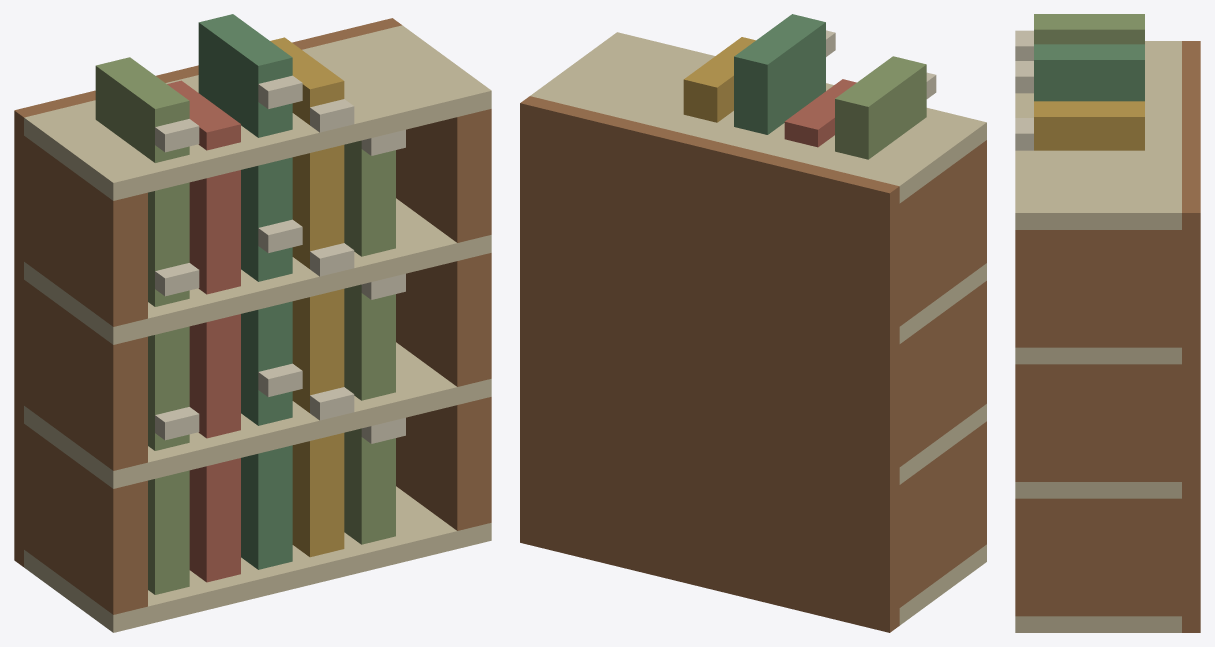
File: biotech-20.glb
The picture shows the model from 3 angles, left to right: view 1: azimuth 30°, elevation 25°; view 2: azimuth 150°, elevation 25°; view 3: azimuth 270°, elevation 25°; orthographic projection. The views are drawn at different scales.
Visible parts, largest first — view 1: Research books; view 2: Research books; view 3: Research books.
Part boxes in pixels (x1,y1,x2,y2): Research books: (14, 14, 491, 632); Research books: (520, 14, 986, 632); Research books: (1015, 14, 1200, 632).
Size of the model in its own units: 1.76 by 2.32 by 0.8.
